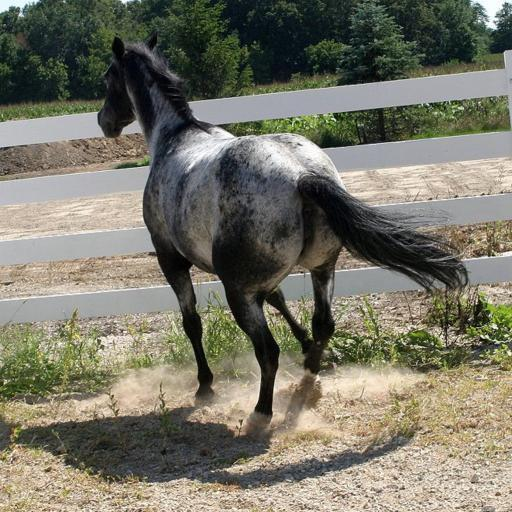horse: (93, 34, 470, 438)
